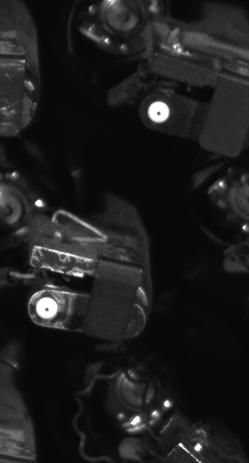fiber: (142, 98, 177, 128), (31, 293, 60, 324)
